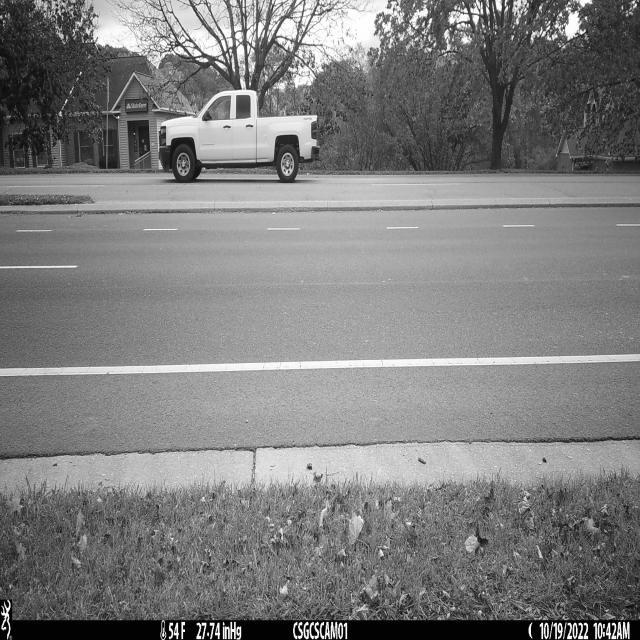Pickup: (158, 90, 319, 183)
